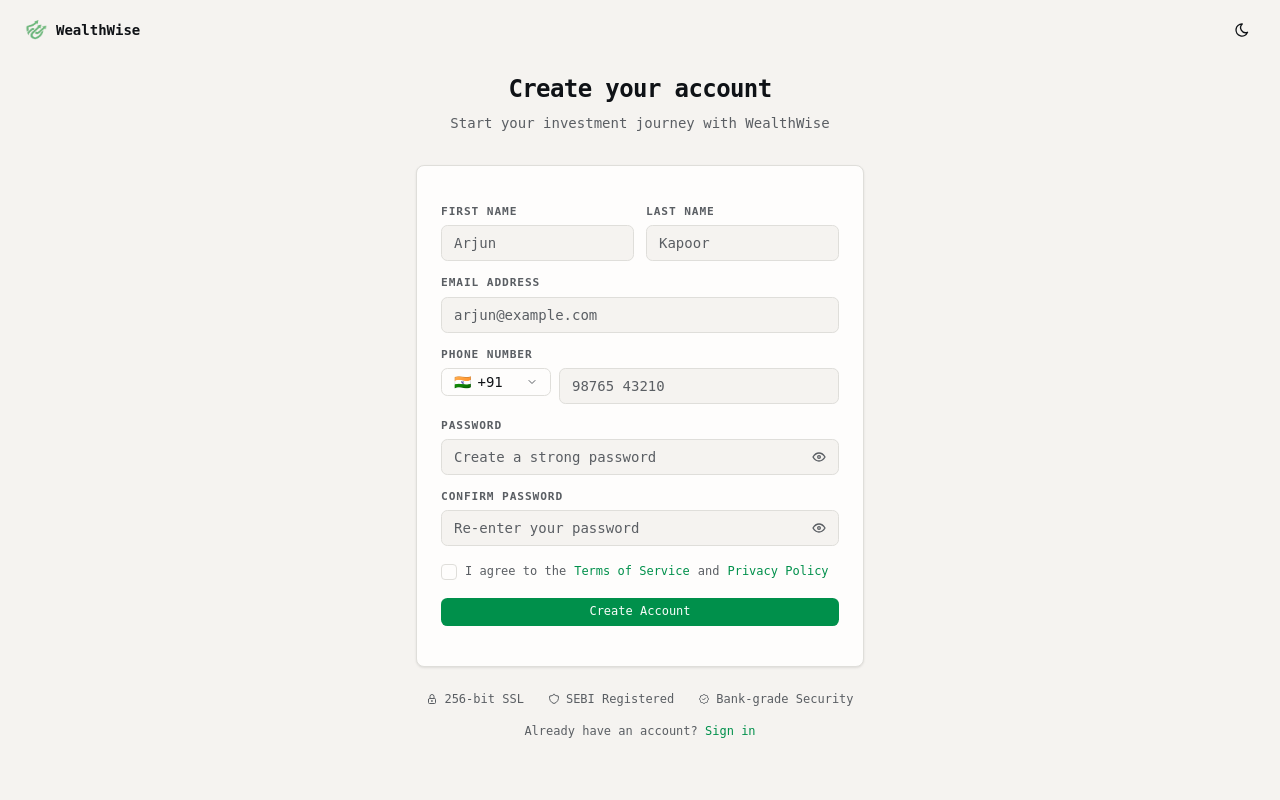
SignUpPage › shows error when names are empty
Click the button "Create Account". click: (640, 612)
box: [441,598,839,626]
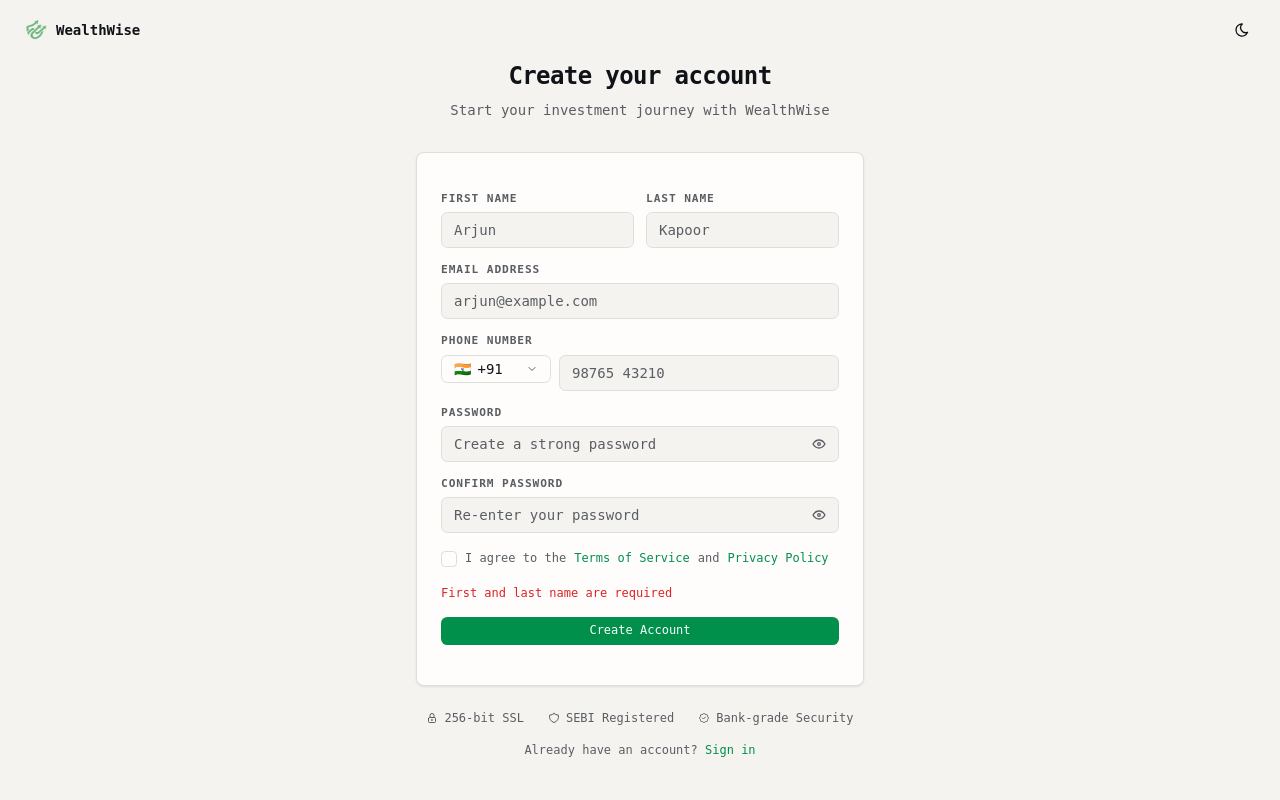
Expected: the text "First and last name are required" is shown, [441,586,672,600]
